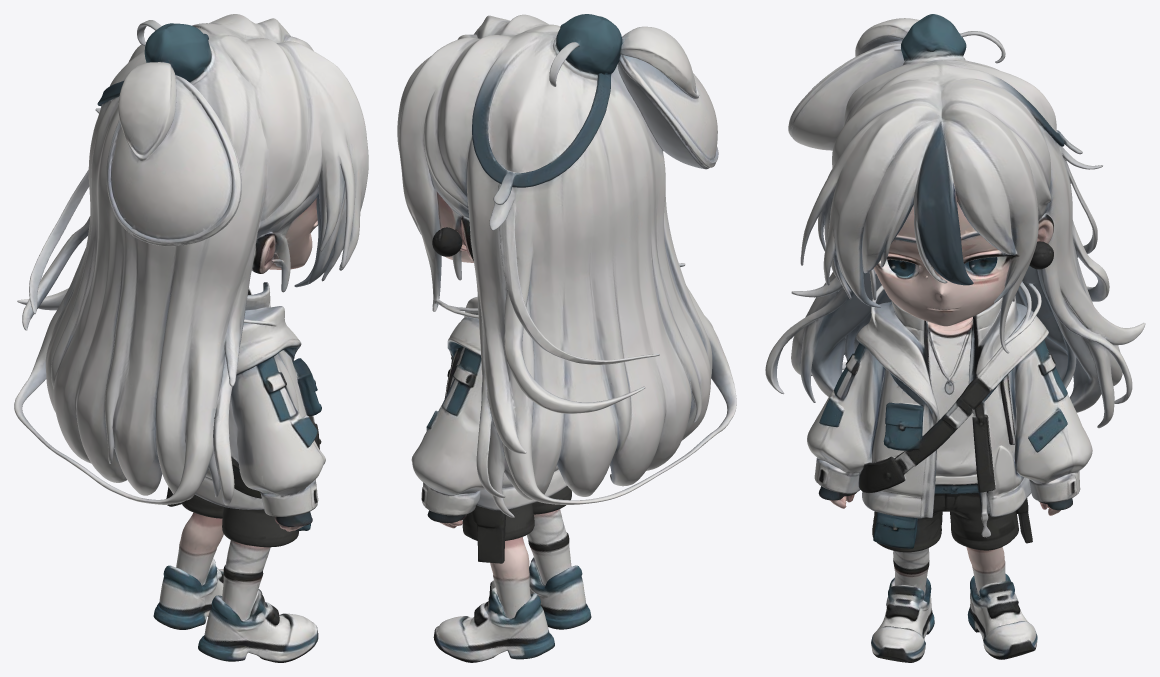
Rendered from sabi_tripo.glb.
3 renders of one model, left to right at view 1: azimuth 30°, elevation 25°; view 2: azimuth 150°, elevation 25°; view 3: azimuth 270°, elevation 25°, orthographic. The views are drawn at different scales.
Visible parts, largest first — view 1: tripo_node_cf3c99c8-96ee-4526-85af-c2ea3801d384; view 2: tripo_node_cf3c99c8-96ee-4526-85af-c2ea3801d384; view 3: tripo_node_cf3c99c8-96ee-4526-85af-c2ea3801d384.
Part boxes in pixels (left/top/right/bottom): tripo_node_cf3c99c8-96ee-4526-85af-c2ea3801d384: left=14, top=14, right=368, bottom=662; tripo_node_cf3c99c8-96ee-4526-85af-c2ea3801d384: left=397, top=14, right=736, bottom=662; tripo_node_cf3c99c8-96ee-4526-85af-c2ea3801d384: left=765, top=14, right=1145, bottom=662.
Bounding box in the file's own units: 0.4737 × 1 × 0.5752.
Materials: 1 (1 with a texture image).
